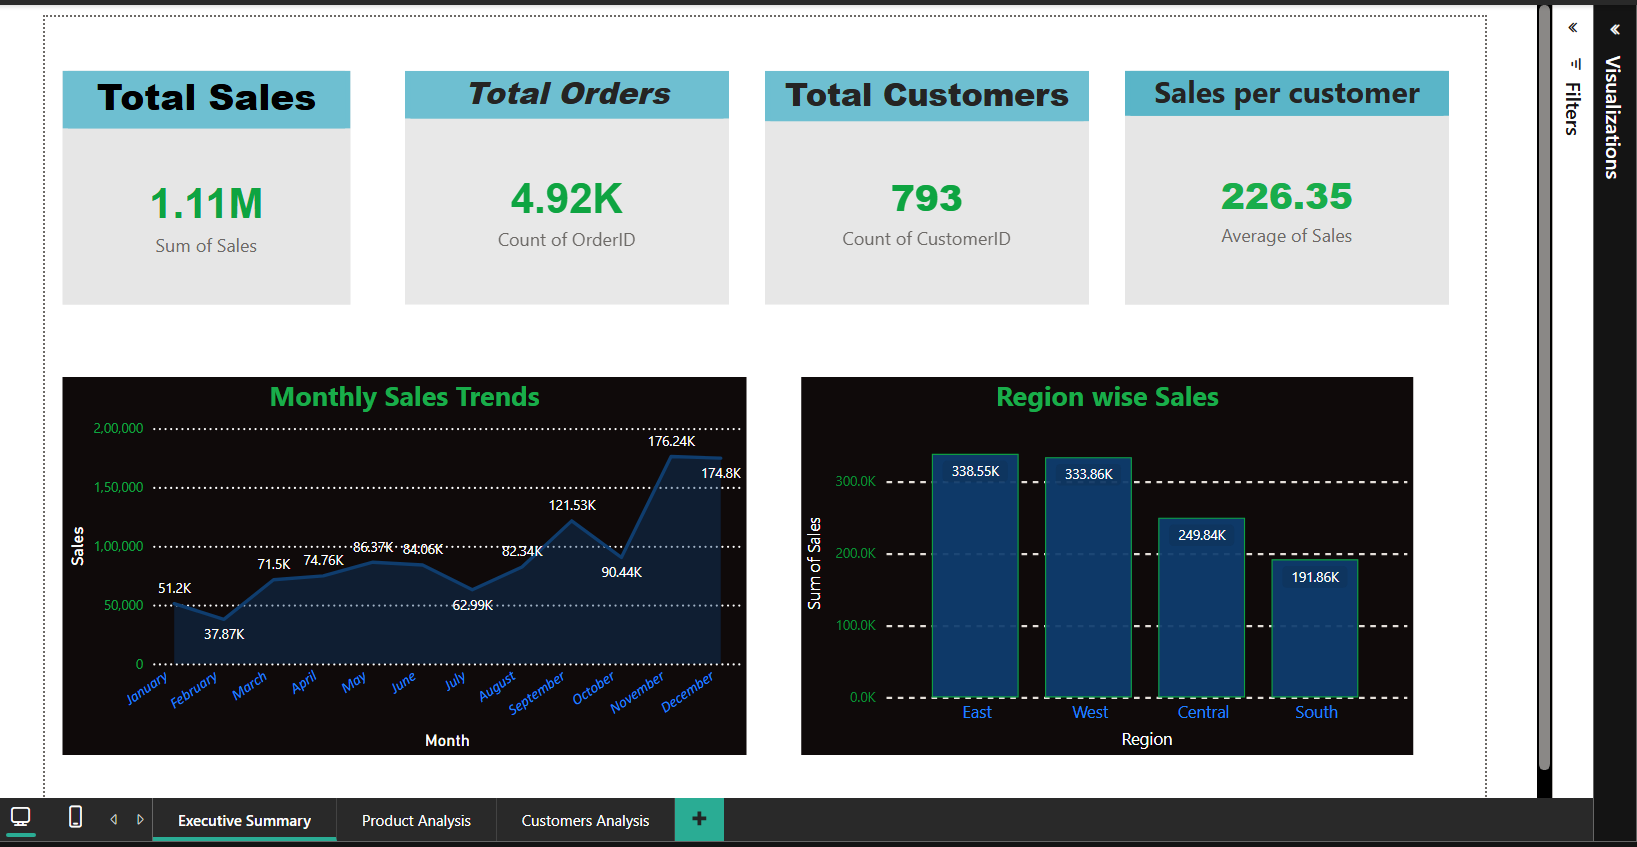

Layout of this report page (visuals, bound fields, positions):
{"tool":"powerbi","page":{"name":"Executive Summary","canvas":[1280,720],"ordinal":0},"visuals":[{"type":"card","title":"Total Sales","fields":{"Values":["Sum(supersales_cleaned(in)1.Sales)"]},"box":[16,48,256,208],"z":0},{"type":"card","title":"Total Orders","fields":{"Values":["CountNonNull(supersales_cleaned(in)1.OrderID)"]},"box":[320,48,288,208],"z":1000},{"type":"card","title":"Total Customers","fields":{"Values":["Count(supersales_cleaned(in)1.CustomerID)"]},"box":[640,48,288,208],"z":2000},{"type":"lineChart","title":"Monthly Sales Trends","fields":{"Y":["Sum(supersales_cleaned(in)1.Sales)"],"Category":["supersales_cleaned(in)1.OrderDate.Variation.Date Hierarchy.Month"]},"box":[16,320,608,336],"z":3000},{"type":"clusteredColumnChart","title":"Region wise Sales","fields":{"Category":["supersales_cleaned(in)1.Region"],"Y":["Sum(supersales_cleaned(in)1.Sales)"]},"box":[672,320,544,336],"z":4000},{"type":"card","title":"Sales per customer","fields":{"Values":["Avg(supersales_cleaned(in)1.Sales)"]},"box":[960,48,288,208],"z":5000}]}

Visuals, with their boxes on the page's 1280x720 design canvas (x1, y1, x2, y2). These are canvas units, not pixel positions in the 1637x847 screenshot, which may show the page scaled, cropped or inside an application window:
"Total Sales" card: [x1=16, y1=48, x2=272, y2=256]
"Total Orders" card: [x1=320, y1=48, x2=608, y2=256]
"Total Customers" card: [x1=640, y1=48, x2=928, y2=256]
"Monthly Sales Trends" lineChart: [x1=16, y1=320, x2=624, y2=656]
"Region wise Sales" clusteredColumnChart: [x1=672, y1=320, x2=1216, y2=656]
"Sales per customer" card: [x1=960, y1=48, x2=1248, y2=256]
